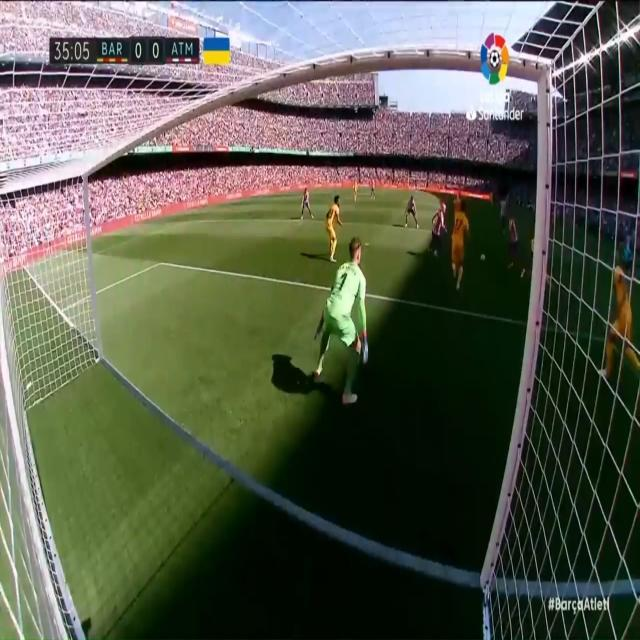ball: (478, 247, 488, 269)
goalkeeper: (307, 228, 374, 417)
player: (596, 251, 640, 391), (449, 195, 471, 296), (426, 193, 447, 279), (503, 211, 527, 282), (324, 187, 345, 267), (298, 177, 315, 226), (403, 188, 421, 234), (368, 173, 377, 202), (351, 176, 359, 205)
referee: (619, 224, 633, 274)
